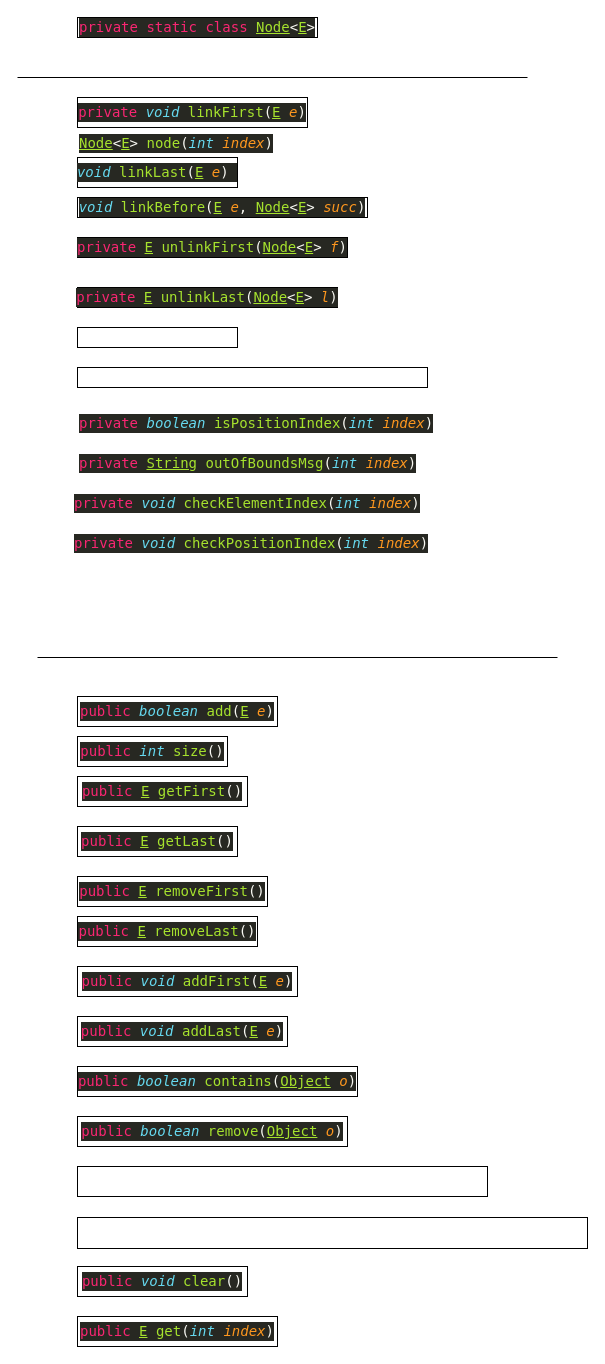
Some shapes in this 605 by 1364 pixel diagram are drawn without their labels. The shapes that lost their labels are listed below. From the top down, each one's box as (x1, y1, x2, y2) in pixels, then its label:
(76, 326, 238, 348): E unlink ( Node < E > x )
(76, 366, 428, 388): private boolean isElementIndex ( int index )
(76, 1166, 488, 1196): public boolean addAll ( Collection < ? extends E > c )
(76, 1216, 588, 1248): public boolean addAll ( int index , Collection < ? extends E > c )
